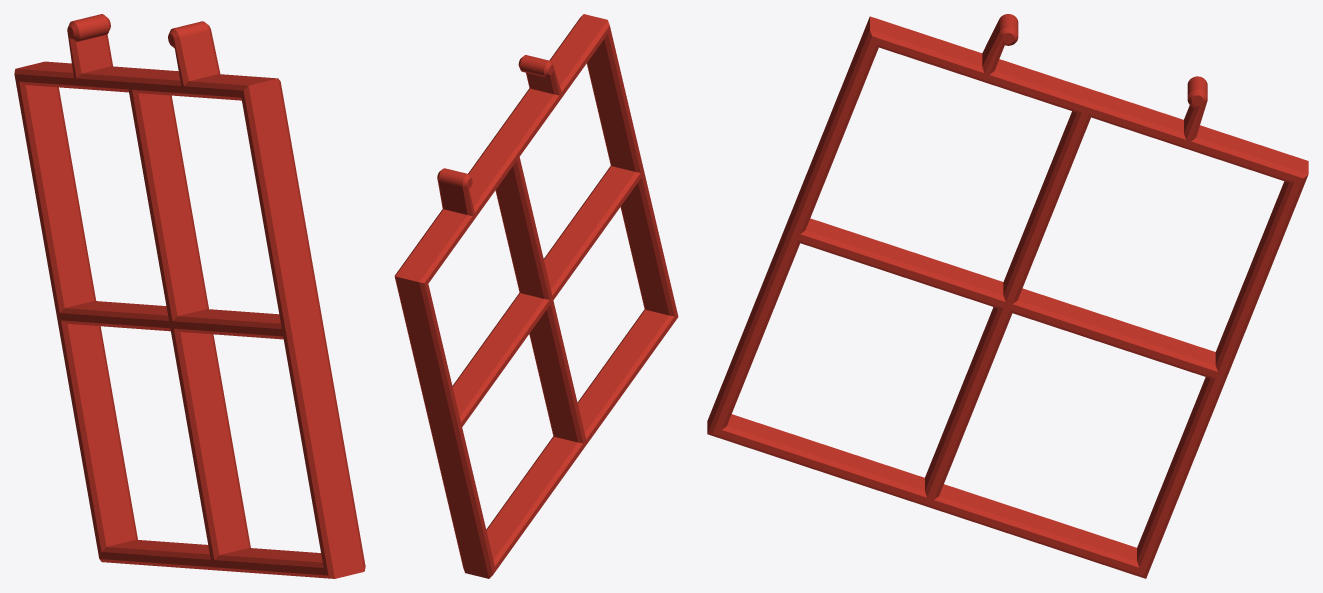
The model's file is EBoxNewAsm_stp_1_real_clip__2__stp_2_solid1.obj.
The picture shows the model from 3 angles, left to right: view 1: azimuth 30°, elevation 25°; view 2: azimuth 150°, elevation 25°; view 3: azimuth 270°, elevation 25°; orthographic projection. The views are drawn at different scales.
Visible parts, largest first — view 1: mesh9203, mesh9167, mesh9231, mesh9166, mesh9223, mesh9233, mesh9180, mesh9170, mesh9174, mesh9188, mesh9157, mesh9207 (+19 smaller); view 2: mesh9167, mesh9199, mesh9219, mesh9227, mesh9232, mesh9161, mesh9215, mesh9160, mesh9217, mesh9235, mesh9225, mesh9197 (+18 smaller); view 3: mesh9236, mesh9219, mesh9227, mesh9161, mesh9232, mesh9215, mesh9203, mesh9204, mesh9200, mesh9205, mesh9197, mesh9234 (+17 smaller).
Part boxes in pixels (x1=…): mesh9203: x1=248, y1=78, x2=364, y2=578; mesh9167: x1=14, y1=26, x2=328, y2=575; mesh9231: x1=25, y1=85, x2=94, y2=307; mesh9166: x1=180, y1=332, x2=248, y2=554; mesh9223: x1=138, y1=93, x2=206, y2=315; mesh9233: x1=67, y1=324, x2=135, y2=546; mesh9180: x1=243, y1=86, x2=334, y2=578; mesh9170: x1=132, y1=90, x2=177, y2=320; mesh9174: x1=19, y1=82, x2=64, y2=312; mesh9188: x1=61, y1=320, x2=106, y2=551; mesh9157: x1=174, y1=329, x2=219, y2=559; mesh9207: x1=180, y1=32, x2=218, y2=80; mesh9167: x1=424, y1=25, x2=678, y2=574; mesh9199: x1=395, y1=276, x2=488, y2=578; mesh9219: x1=544, y1=166, x2=635, y2=288; mesh9227: x1=452, y1=293, x2=543, y2=416; mesh9232: x1=486, y1=436, x2=577, y2=559; mesh9161: x1=578, y1=309, x2=668, y2=432; mesh9215: x1=469, y1=88, x2=553, y2=206; mesh9160: x1=621, y1=183, x2=669, y2=315; mesh9217: x1=587, y1=39, x2=635, y2=171; mesh9235: x1=530, y1=310, x2=577, y2=442; mesh9225: x1=496, y1=166, x2=544, y2=298; mesh9197: x1=395, y1=209, x2=467, y2=281; mesh9236: x1=712, y1=33, x2=1303, y2=575; mesh9219: x1=805, y1=218, x2=1003, y2=295; mesh9227: x1=1018, y1=288, x2=1215, y2=365; mesh9161: x1=727, y1=414, x2=924, y2=491; mesh9232: x1=939, y1=484, x2=1136, y2=561; mesh9215: x1=994, y1=59, x2=1183, y2=133; mesh9203: x1=707, y1=16, x2=869, y2=433; mesh9204: x1=707, y1=30, x2=872, y2=434; mesh9200: x1=1144, y1=175, x2=1307, y2=578; mesh9205: x1=870, y1=16, x2=982, y2=66; mesh9197: x1=1196, y1=125, x2=1308, y2=174; mesh9234: x1=934, y1=496, x2=1139, y2=567.
Bounding box in the file's own units: 0.01 × 0.151 × 0.1492.
